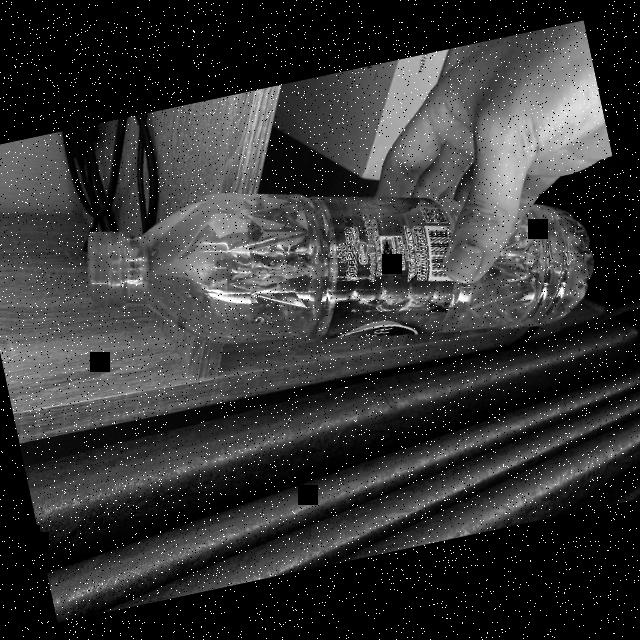plastic_bottle: (70, 113, 609, 421)
plastic_bottle_cap: (73, 220, 140, 316)
